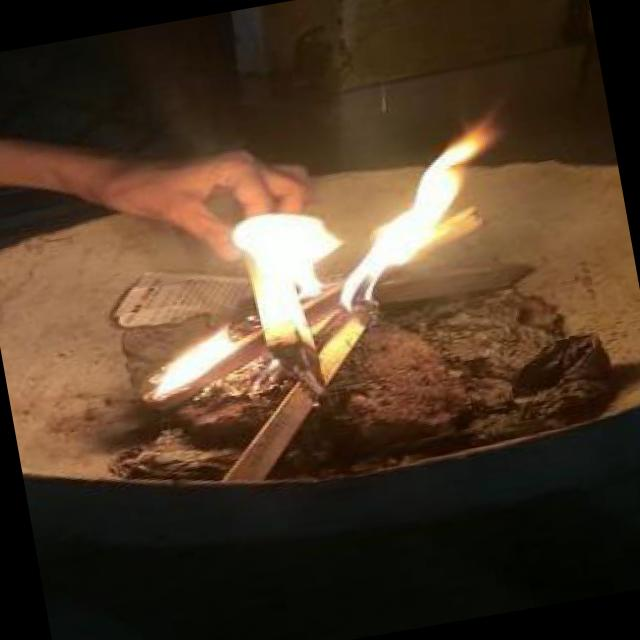fire: (123, 115, 528, 415)
